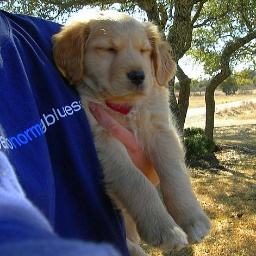dog: (61, 10, 218, 246)
